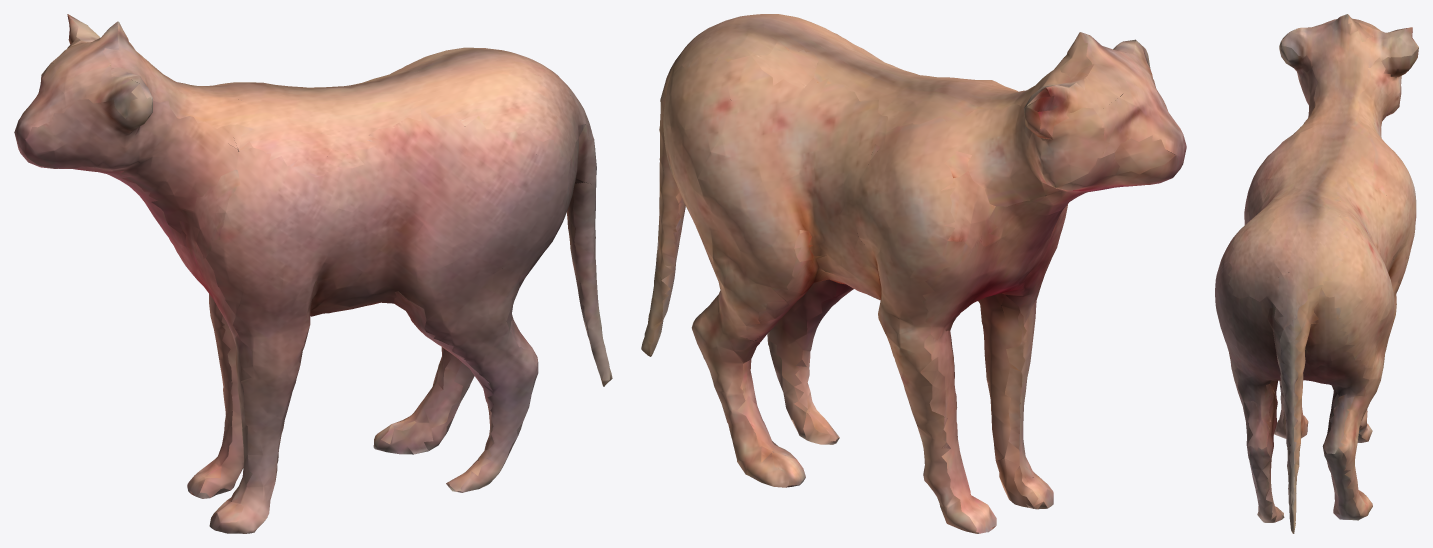
3 renders of one model, left to right at view 1: azimuth 30°, elevation 25°; view 2: azimuth 150°, elevation 25°; view 3: azimuth 270°, elevation 25°, orthographic. The views are drawn at different scales.
Parts seen in each view (by area): view 1: world; view 2: world; view 3: world.
Part boxes in pixels (x1,y1,x2,y2): world: (14, 14, 612, 533); world: (641, 14, 1186, 533); world: (1215, 14, 1418, 533).
Size of the model in its own units: 0.8735 by 0.7514 by 0.3555.
1 material, 1 textured.
